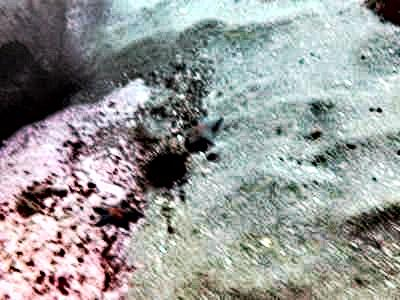urchin: (146, 146, 185, 183)
